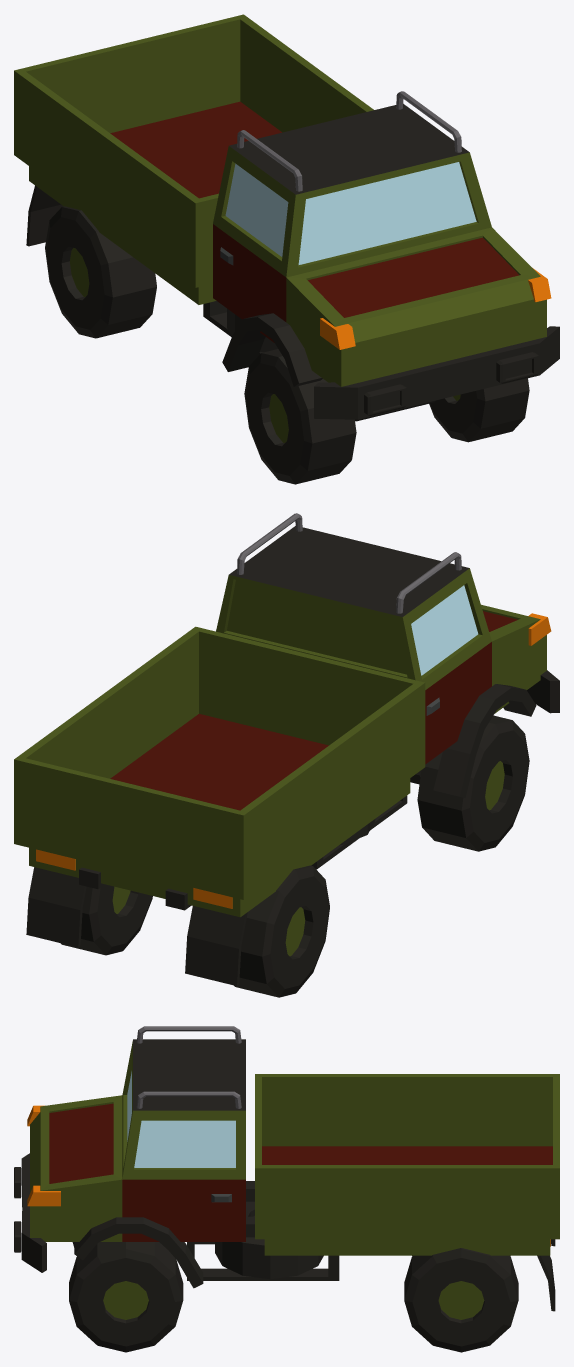
Rendered from truck.glb.
3 views of the same model, one above another, from view 1: azimuth 30°, elevation 25°; view 2: azimuth 150°, elevation 25°; view 3: azimuth 270°, elevation 25° (orthographic). The views are drawn at different scales.
Visible parts, largest first — view 1: Scout_Car; view 2: Scout_Car; view 3: Scout_Car.
Boxes of the visible parts, x1,y1,x2,y2 form: Scout_Car: (14,14,559,484); Scout_Car: (14,513,559,997); Scout_Car: (14,1026,559,1352).
Size of the model in its own units: 1.94 by 2.23 by 4.43.
2 materials, 2 textured.
